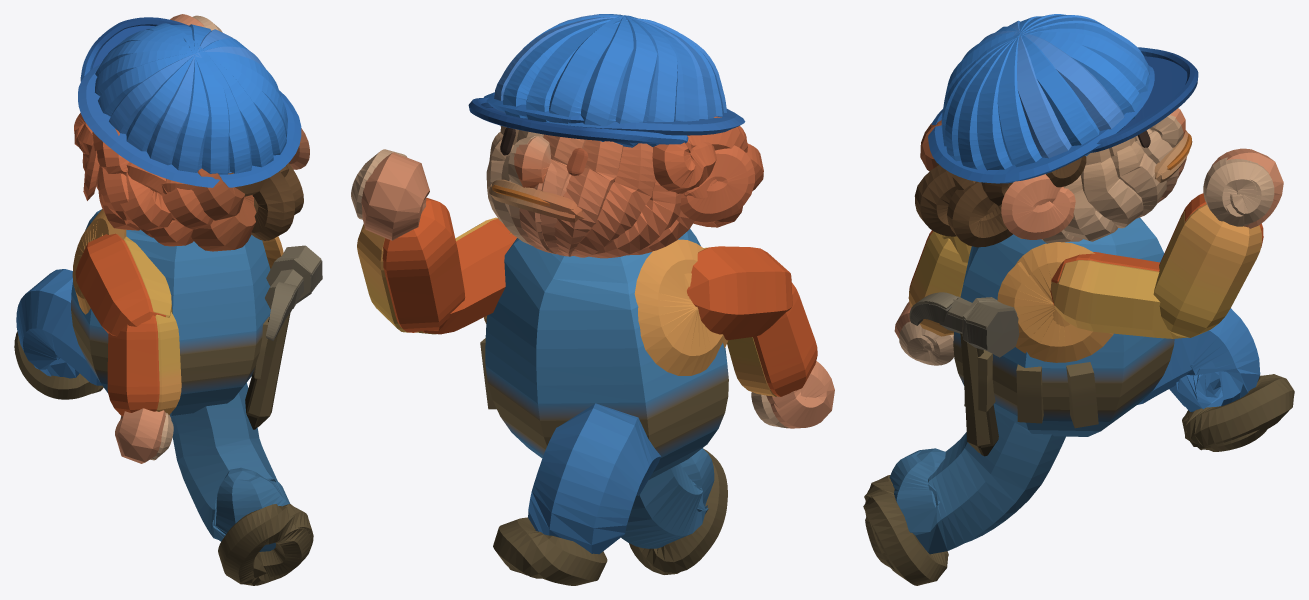
File: worker_jump.fbx
3 views of the same model, side by side, from view 1: azimuth 30°, elevation 25°; view 2: azimuth 150°, elevation 25°; view 3: azimuth 270°, elevation 25° (orthographic). The views are drawn at different scales.
Parts seen in each view (by area): view 1: Jump; view 2: Jump; view 3: Jump.
Boxes of the visible parts, bbox=[...] form: Jump: bbox=[14, 14, 322, 585]; Jump: bbox=[351, 14, 834, 585]; Jump: bbox=[863, 14, 1294, 585].
Size of the model in its own units: 1.17 by 2.21 by 1.58.
